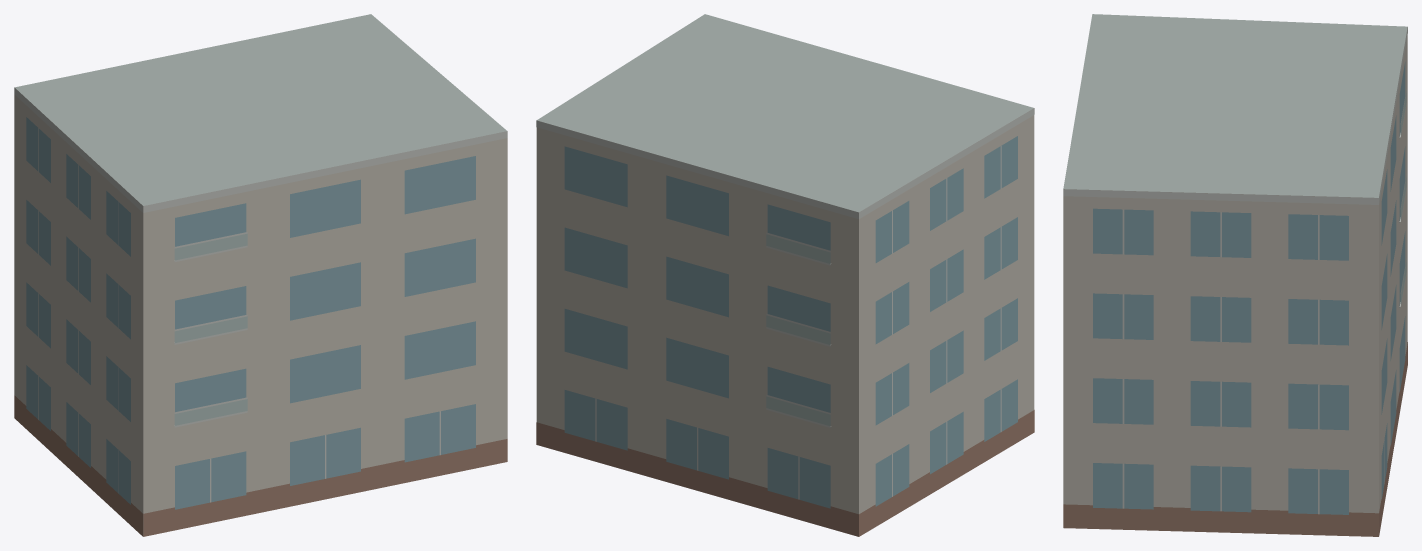
File: survey-upis-33041381.glb
The picture shows the model from 3 angles, left to right: view 1: azimuth 30°, elevation 25°; view 2: azimuth 150°, elevation 25°; view 3: azimuth 270°, elevation 25°; orthographic projection. The views are drawn at different scales.
Parts seen in each view (by area): view 1: survey-upis-33041381.tmp; view 2: survey-upis-33041381.tmp; view 3: survey-upis-33041381.tmp.
Boxes of the visible parts, x1,y1,x2,y2 form: survey-upis-33041381.tmp: (14,14,507,536); survey-upis-33041381.tmp: (536,14,1034,536); survey-upis-33041381.tmp: (1063,14,1407,536).
Bounding box in the file's own units: 13.51 × 11.6 × 10.69.
